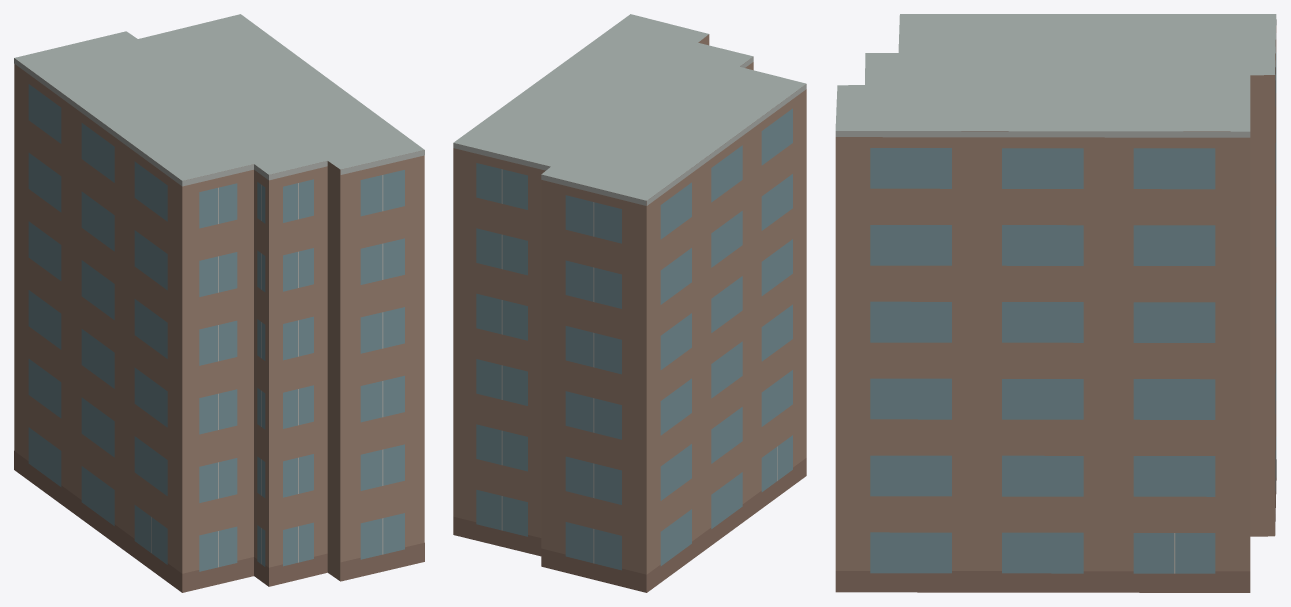
Rendered from survey-upis-32663326.glb.
3 renders of one model, left to right at view 1: azimuth 30°, elevation 25°; view 2: azimuth 150°, elevation 25°; view 3: azimuth 270°, elevation 25°, orthographic. The views are drawn at different scales.
Visible parts, largest first — view 1: survey-upis-32663326.tmp; view 2: survey-upis-32663326.tmp; view 3: survey-upis-32663326.tmp.
Part boxes in pixels (box(x1,y1,x2,y2)): survey-upis-32663326.tmp: box(14, 14, 424, 592); survey-upis-32663326.tmp: box(453, 14, 806, 592); survey-upis-32663326.tmp: box(835, 14, 1276, 592).
Bounding box in the file's own units: 9.89 × 18.1 × 15.69.
